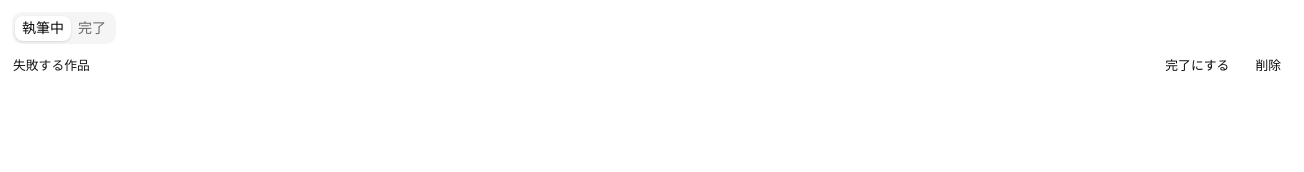
Scenario: WorkTabs › 変更の失敗によるエラー表示は、別のタブへ移っても残らない
What coordinates should you click on to do the following:
click the button with aria-label "「失敗する作品」を完了にする"
I would click on:
 (1197, 66)
Its box is [1154,52,1240,80].
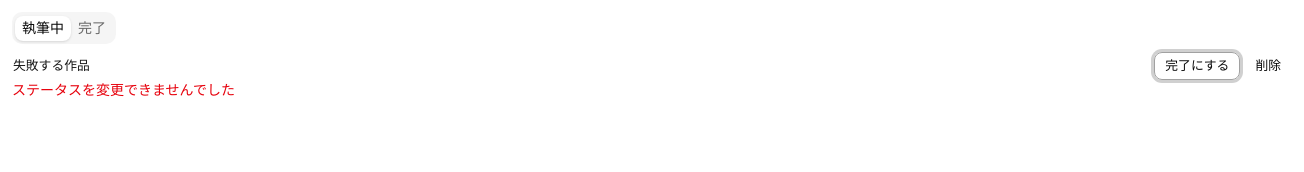
Expected: the message reads "ステータスを変更できませんでした", [12,82,235,98]
What coordinates should you click on to do the following:
click the tab "完了"
I would click on:
 (92, 28)
Its box is [71,16,113,40].
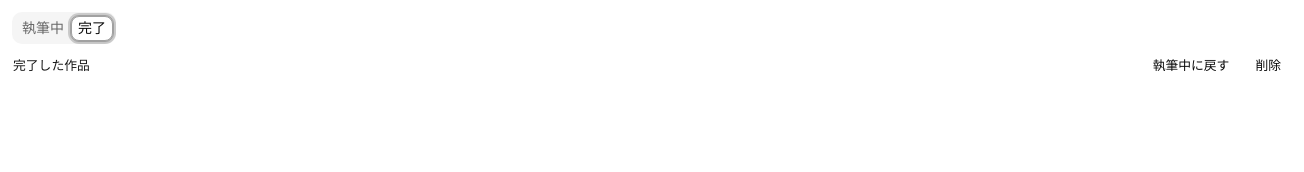
Expected: the button "完了した作品" is shown, [12,56,91,76]
Expected: the message "ステータスを変更できませんでした" is gone
